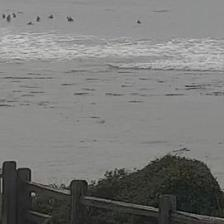surfer: (67, 17, 74, 22), (7, 14, 11, 22), (36, 16, 41, 22), (48, 15, 54, 19), (12, 12, 16, 18), (2, 13, 6, 19), (136, 19, 141, 23), (27, 22, 33, 25)
